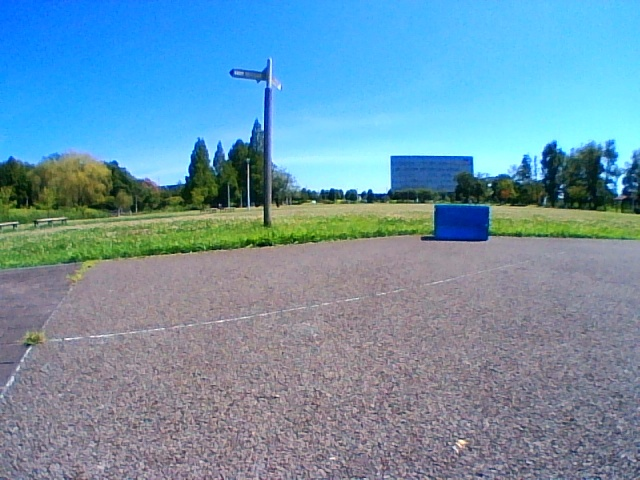blue_box: (435, 205, 490, 240)
